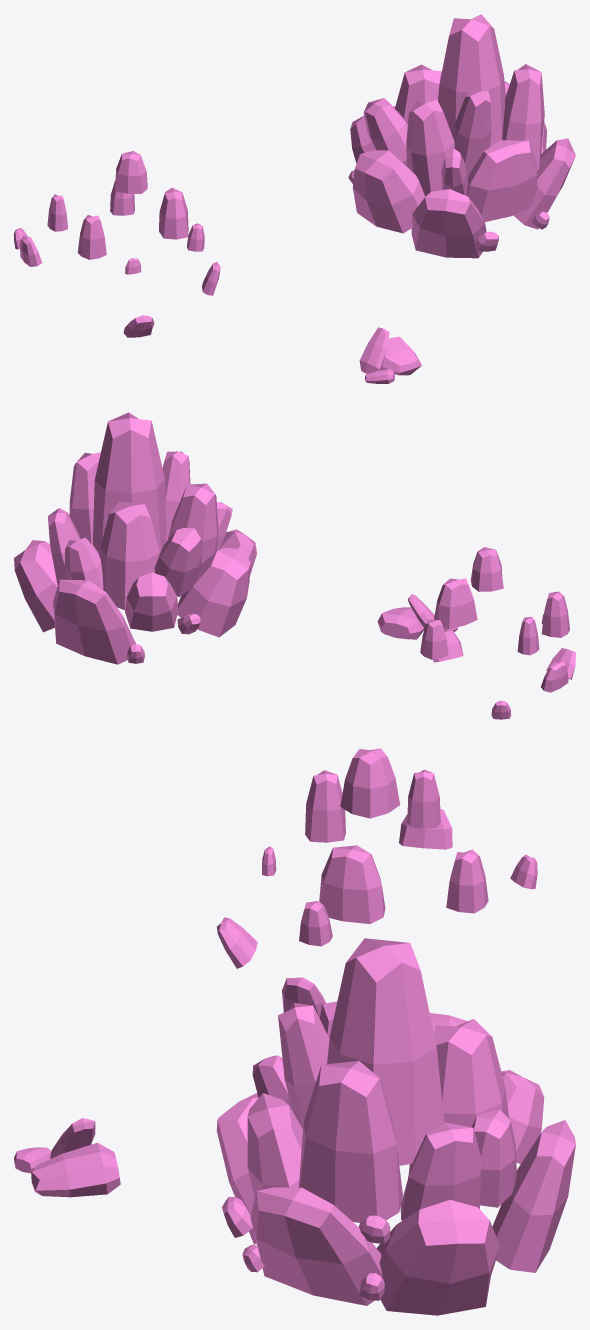
File: crystal_07.glb
3 renders of one model, top to bottom at view 1: azimuth 30°, elevation 25°; view 2: azimuth 150°, elevation 25°; view 3: azimuth 270°, elevation 25°, orthographic. The views are drawn at different scales.
Visible parts, largest first — view 1: crystal_07; view 2: crystal_07; view 3: crystal_07.
Part boxes in pixels (x1,y1,x2,y2): crystal_07: (14,14,575,383); crystal_07: (14,412,575,719); crystal_07: (14,748,575,1315).
Size of the model in its own units: 2.63 by 1.13 by 1.51.
